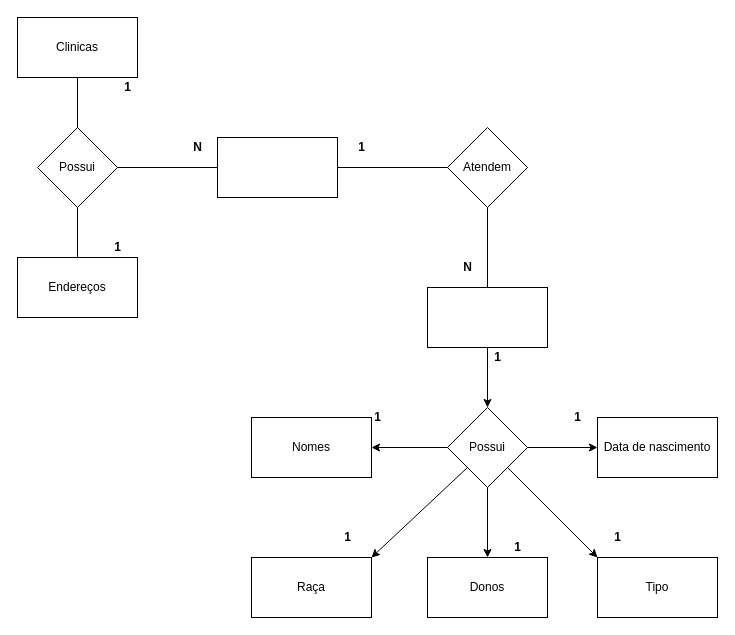
This 735x635 diagram has some shape labels left out. Each missing label, with the centre of its shape:
"Pets" goes at point (487, 317).
"Veterinarios" goes at point (277, 167).
